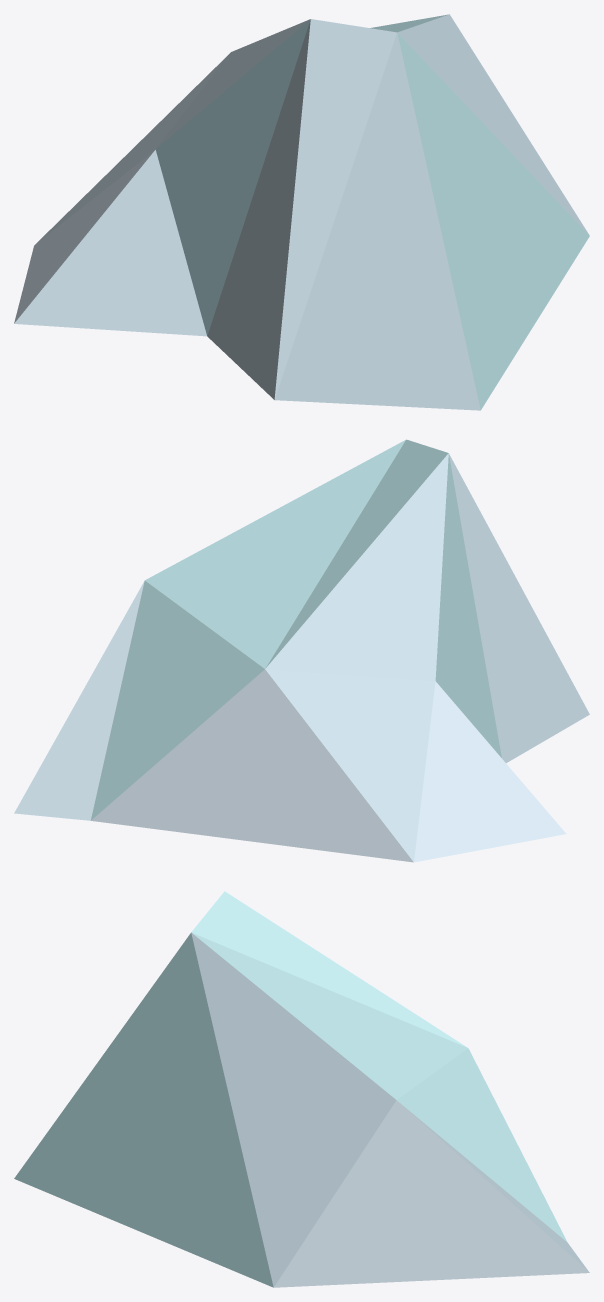
The model's file is Iceberg 14.fbx.
3 views of the same model, one above another, from view 1: azimuth 30°, elevation 25°; view 2: azimuth 150°, elevation 25°; view 3: azimuth 270°, elevation 25° (orthographic). The views are drawn at different scales.
Visible parts, largest first — view 1: Iceberg 14; view 2: Iceberg 14; view 3: Iceberg 14.
Boxes of the visible parts, <box> form: Iceberg 14: <box>14,14,589,410</box>; Iceberg 14: <box>14,439,589,862</box>; Iceberg 14: <box>14,891,589,1287</box>.
Bounding box in the file's own units: 2262 × 1296 × 2525.
